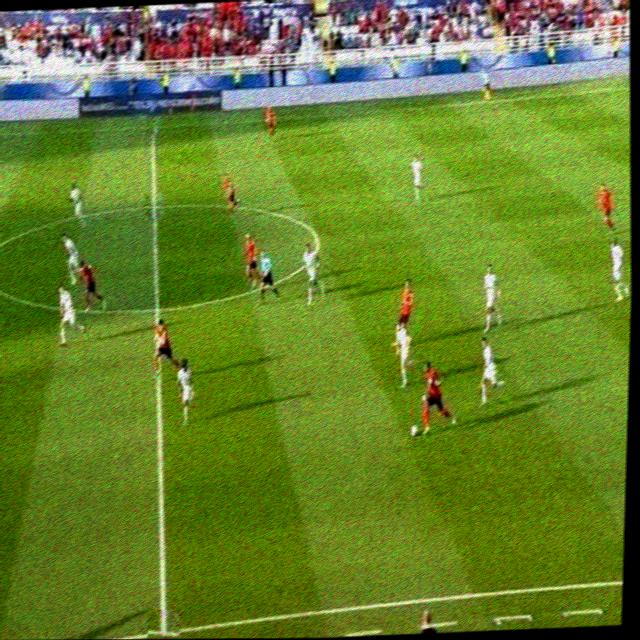halfcircle_bottom: (143, 289, 170, 327)
halfcircle_top: (143, 192, 165, 217)
midline_bottom_intersection: (146, 608, 180, 639)
midline_top_intersection: (145, 115, 161, 134)
